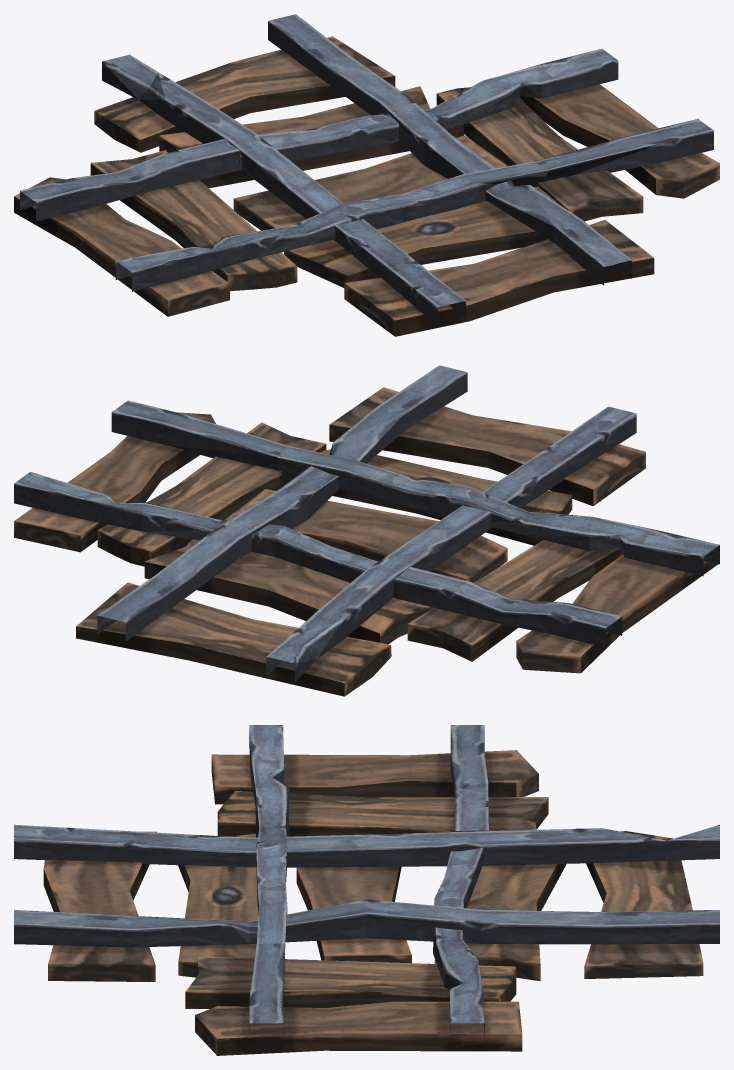
Rendered from mine_track_cross.fbx.
The picture shows the model from 3 angles, top to bottom: view 1: azimuth 30°, elevation 25°; view 2: azimuth 150°, elevation 25°; view 3: azimuth 270°, elevation 25°; orthographic projection. The views are drawn at different scales.
Parts seen in each view (by area): view 1: obj0.096; view 2: obj0.096; view 3: obj0.096.
Part boxes in pixels (bbox=[...]): obj0.096: bbox=[14, 14, 719, 336]; obj0.096: bbox=[14, 365, 719, 696]; obj0.096: bbox=[14, 725, 719, 1055].
Bounding box in the file's own units: 4 × 0.2947 × 4.
